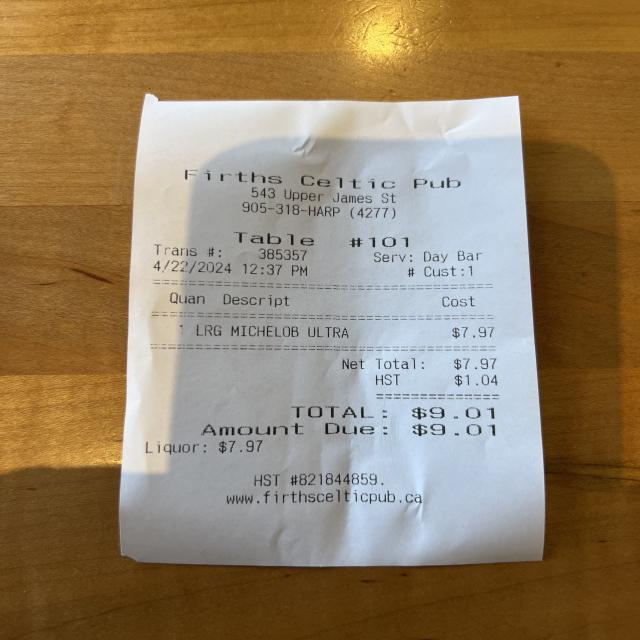item: (162, 317, 505, 343)
store_name: (170, 159, 474, 193)
total_amount: (286, 399, 506, 422)
transaction_date: (142, 254, 240, 278)
